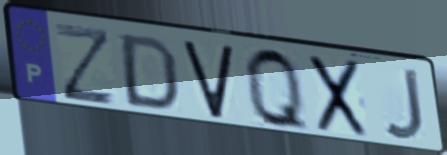D: (119, 31, 180, 113)
J: (380, 67, 427, 144)
Q: (241, 43, 314, 136)
V: (180, 39, 236, 121)
X: (307, 52, 370, 140)
Z: (51, 21, 119, 108)
